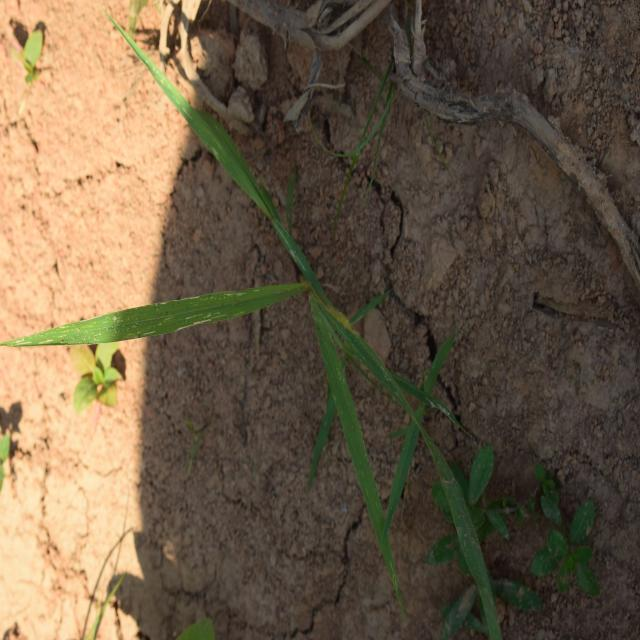green_foxtail: (76, 114, 377, 495)
